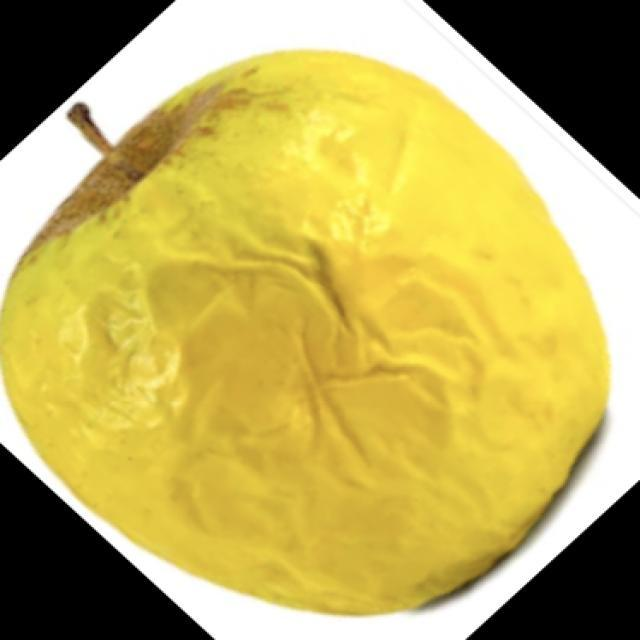Rotten: (25, 60, 617, 640)
